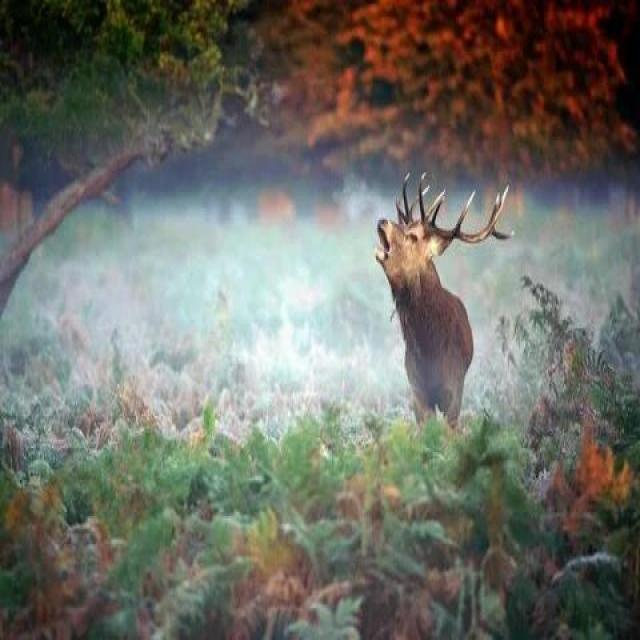deer: (343, 169, 516, 519)
